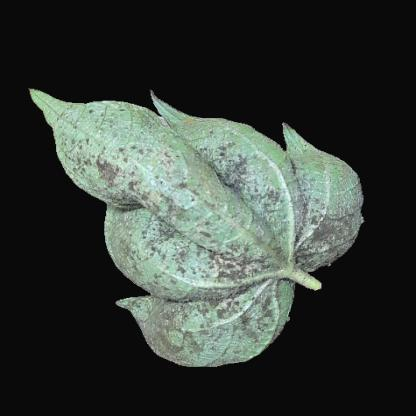curl_stage2: (105, 107, 149, 141), (326, 172, 358, 204), (258, 146, 279, 166)
sooty: (156, 188, 334, 282), (146, 293, 256, 353), (247, 281, 295, 333), (73, 154, 131, 196), (110, 220, 154, 272), (205, 150, 253, 192)
